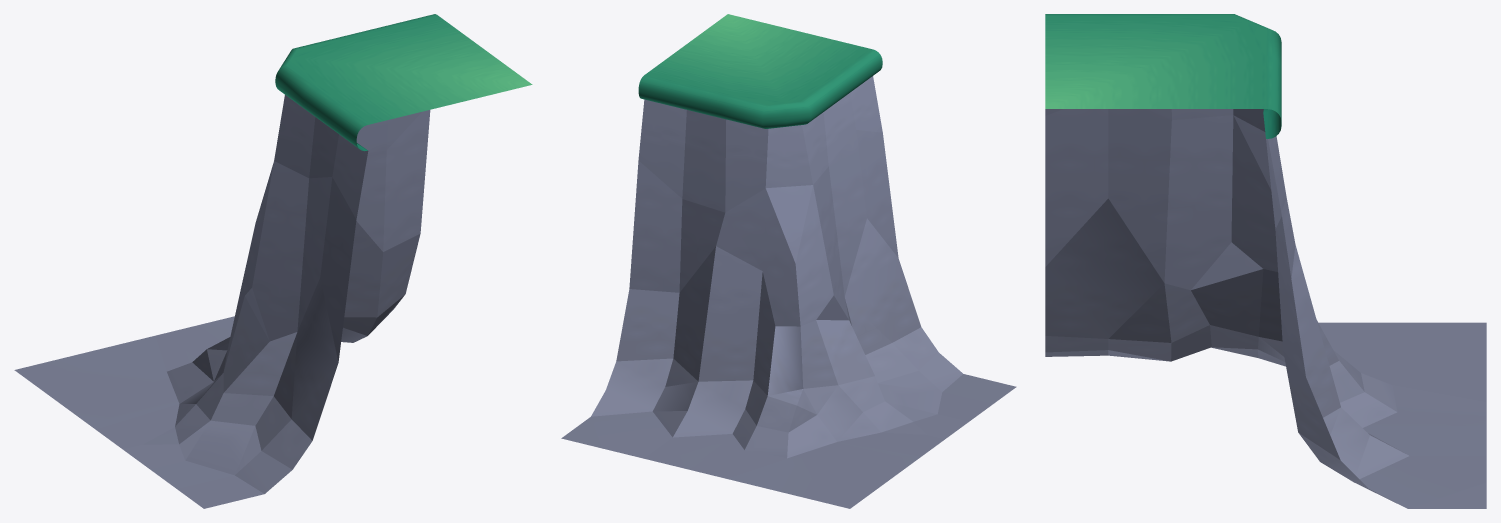
Rendered from cliffCornerOut.fbx.
3 views of the same model, side by side, from view 1: azimuth 30°, elevation 25°; view 2: azimuth 150°, elevation 25°; view 3: azimuth 270°, elevation 25° (orthographic). The views are drawn at different scales.
Visible parts, largest first — view 1: cliffCornerOut; view 2: cliffCornerOut; view 3: cliffCornerOut.
Boxes of the visible parts, x1,y1,x2,y2 form: cliffCornerOut: [14, 14, 532, 508]; cliffCornerOut: [561, 14, 1016, 508]; cliffCornerOut: [1045, 14, 1486, 508].
Size of the model in its own units: 2 by 2 by 2.
